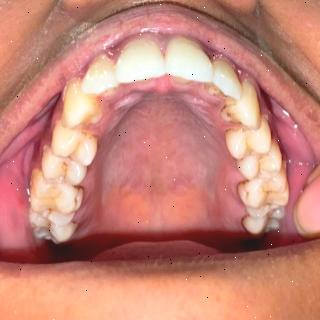plaque: (21, 168, 49, 199), (253, 106, 277, 136), (55, 86, 85, 104), (34, 138, 56, 162), (276, 152, 294, 180)
stains: (70, 132, 104, 166), (57, 156, 91, 188), (221, 125, 255, 154), (236, 176, 262, 206), (61, 210, 85, 242), (214, 102, 243, 128), (236, 210, 262, 236), (69, 183, 89, 211), (232, 157, 256, 175), (208, 82, 226, 105)
